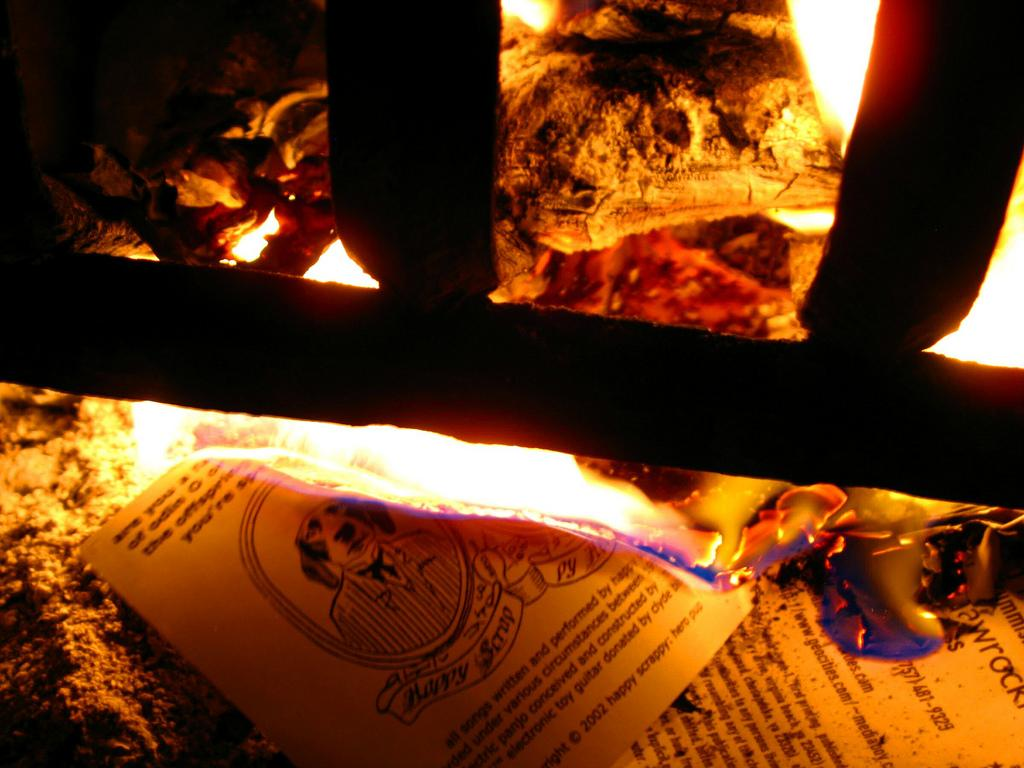fire: (262, 410, 552, 544)
